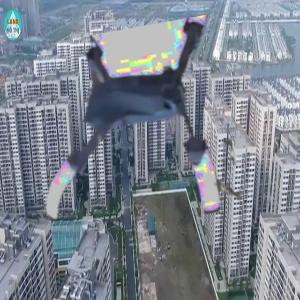drone: (23, 31, 232, 240)
